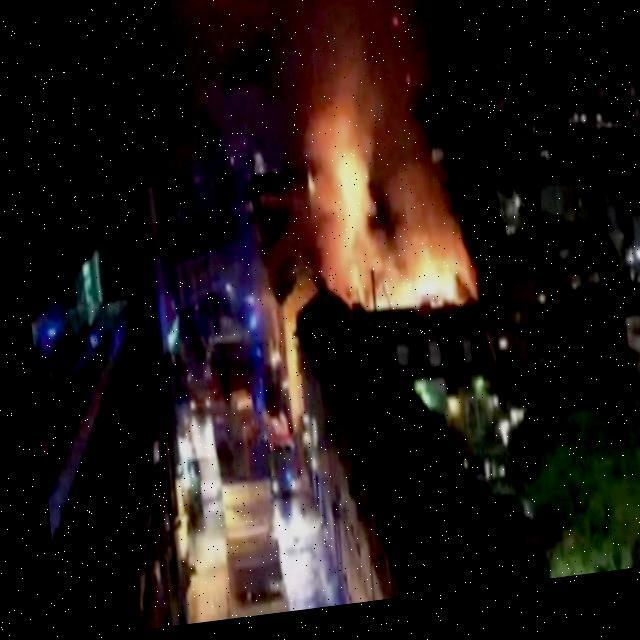Fire: (308, 106, 472, 329)
